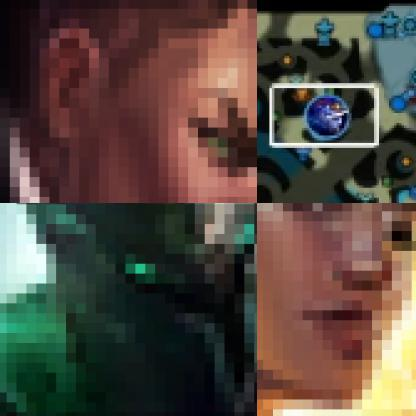Aurelion Sol: (303, 93, 352, 141)
Lucian: (0, 0, 256, 202)
Mordekaiser: (0, 203, 256, 415)
Rell: (257, 203, 415, 415)
